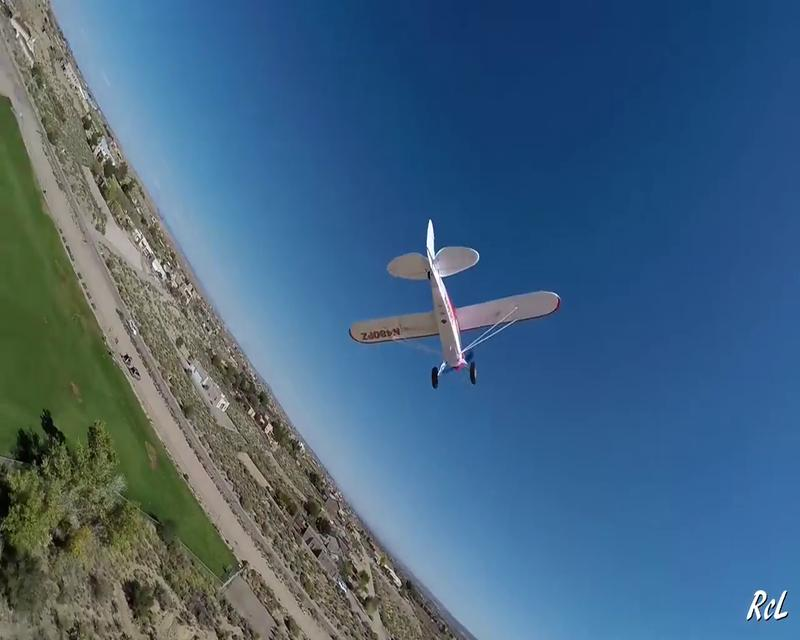UAV: (347, 217, 561, 389)
